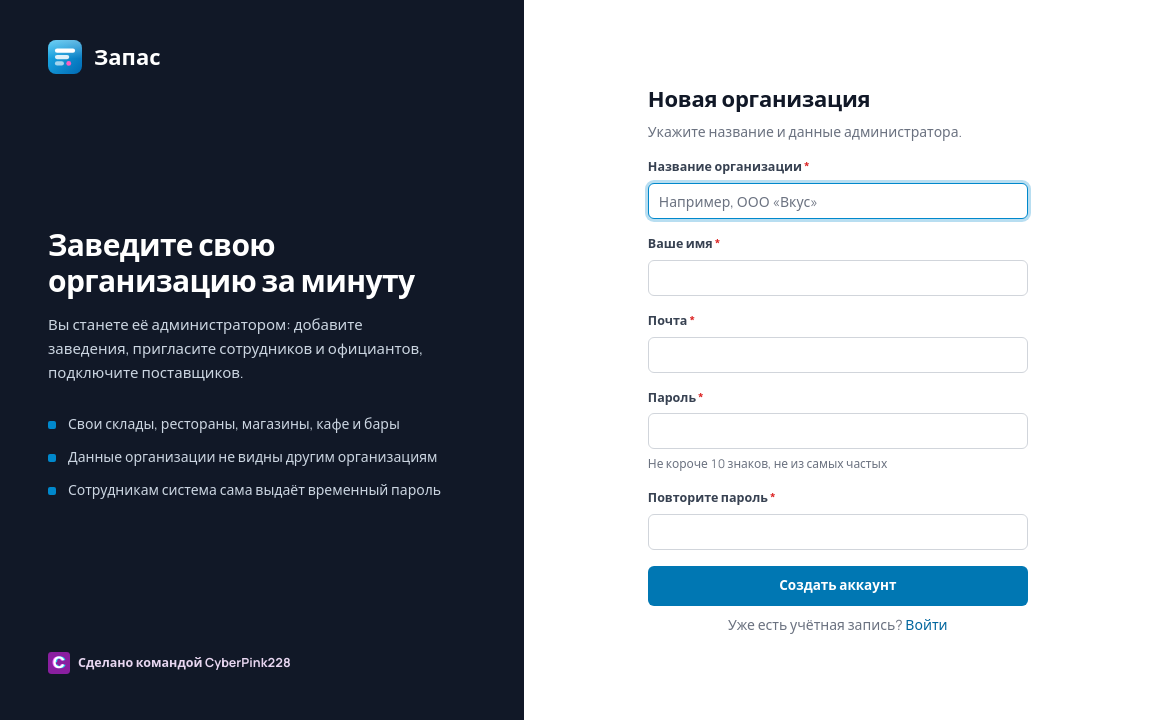
подтверждение почты › после регистрации вместо входа открывается ввод кода, адрес назван
Type "ООО «Вкус»" into the field labelled "Название организации*" at (838, 201), box [648,183,1028,219]
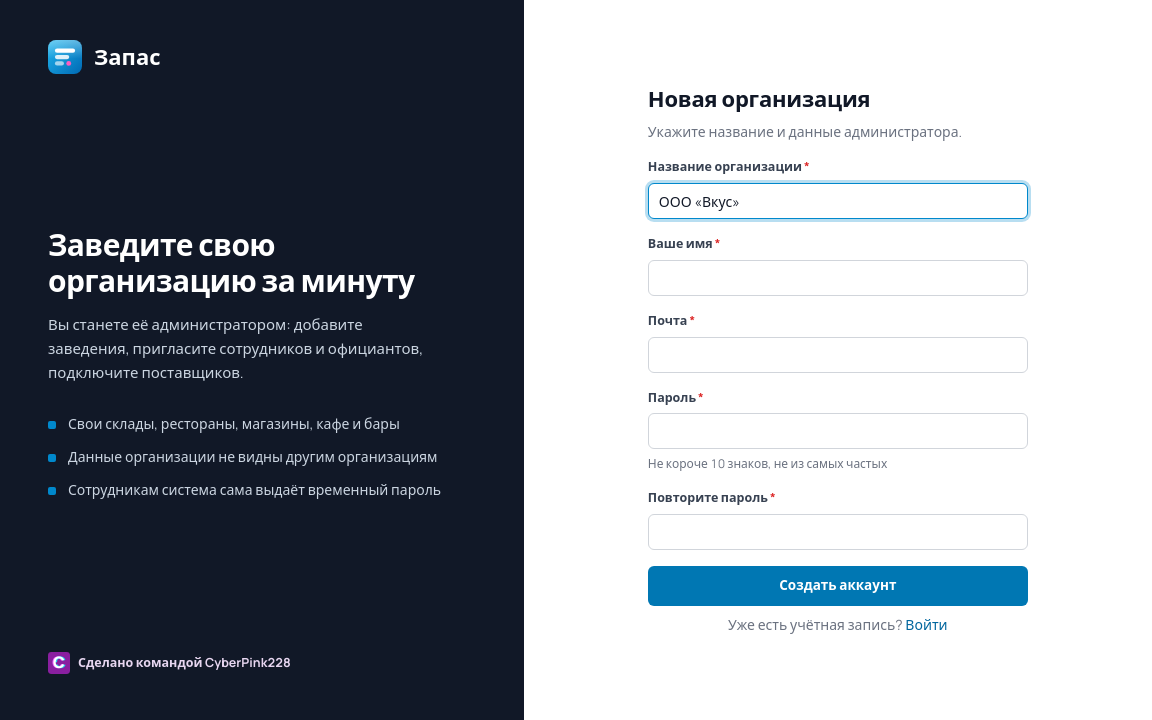
Type "Орлова Наталья" into the field labelled "Ваше имя*" at (838, 278), box [648,260,1028,296]
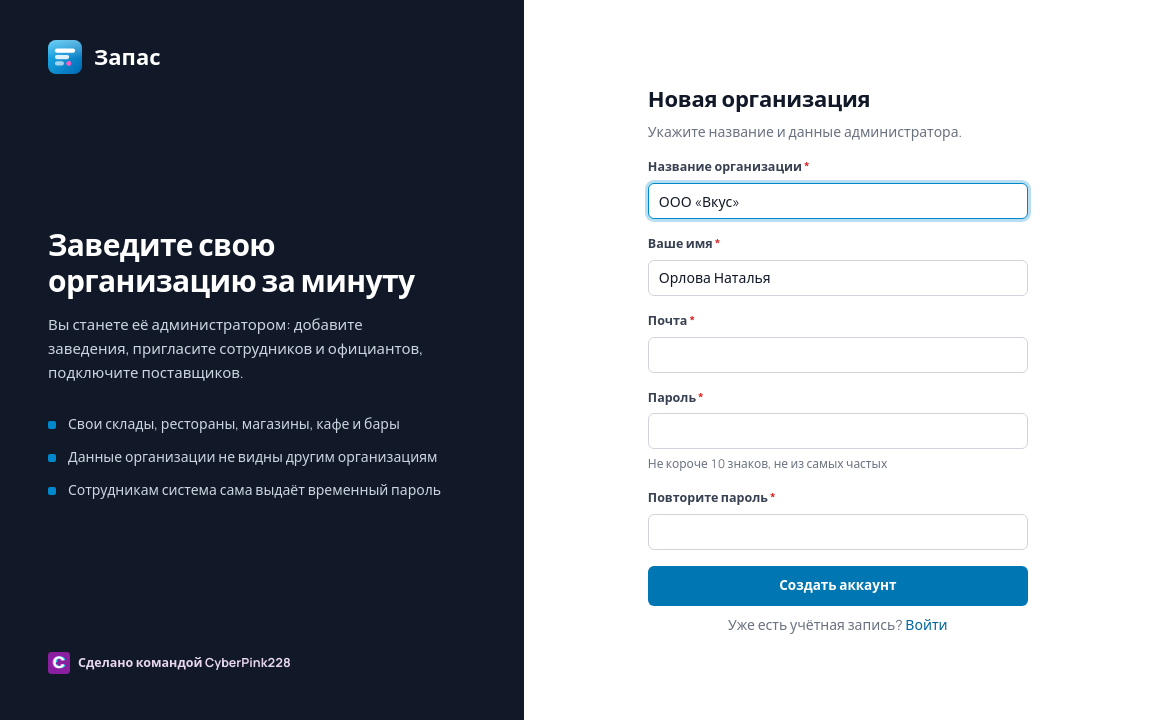
Type "owner@vkus.example" into the field labelled "Почта*" at (838, 355), box [648,337,1028,373]
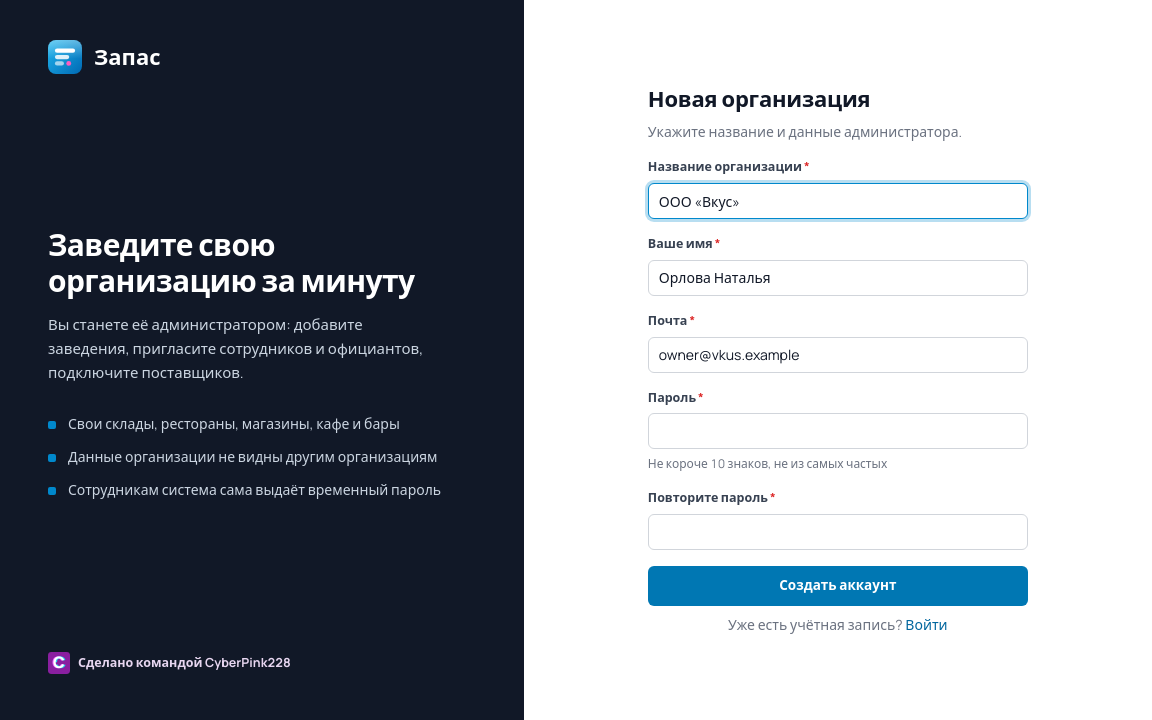
Type "Хорошая-длинная-фраза-91" into the password field labelled "Пароль*" at (838, 431), box [648,413,1028,449]
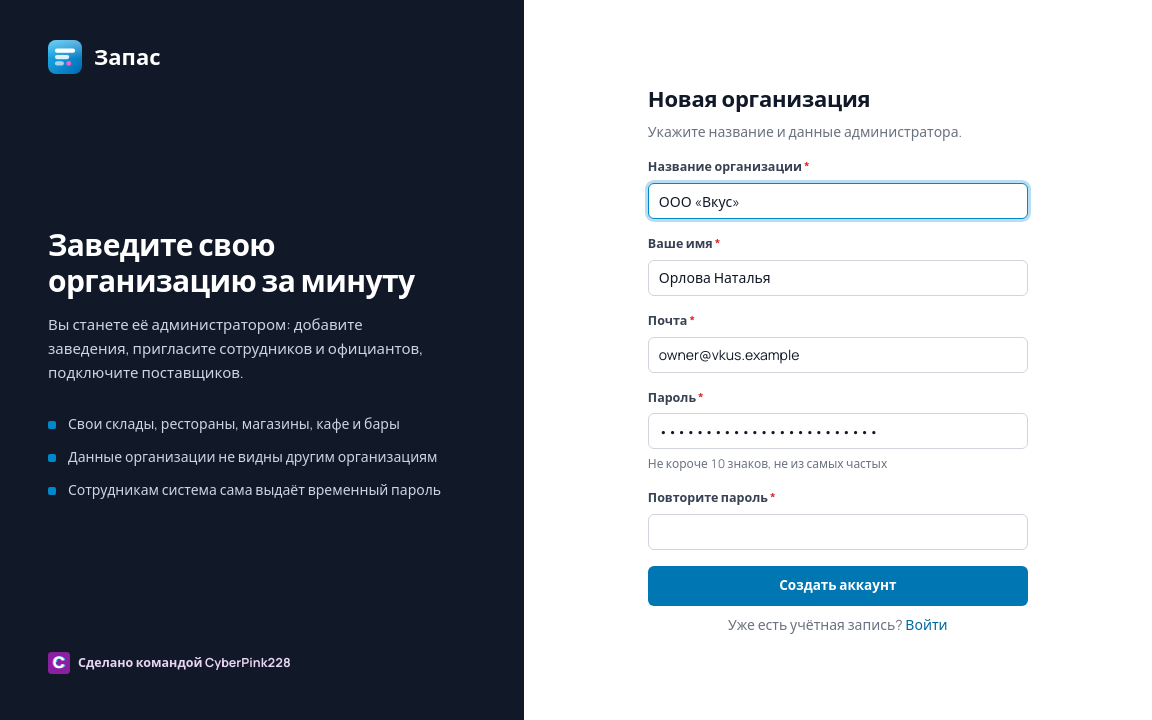
Type "Хорошая-длинная-фраза-91" into the password field labelled "Повторите пароль*" at (838, 532), box [648,514,1028,550]
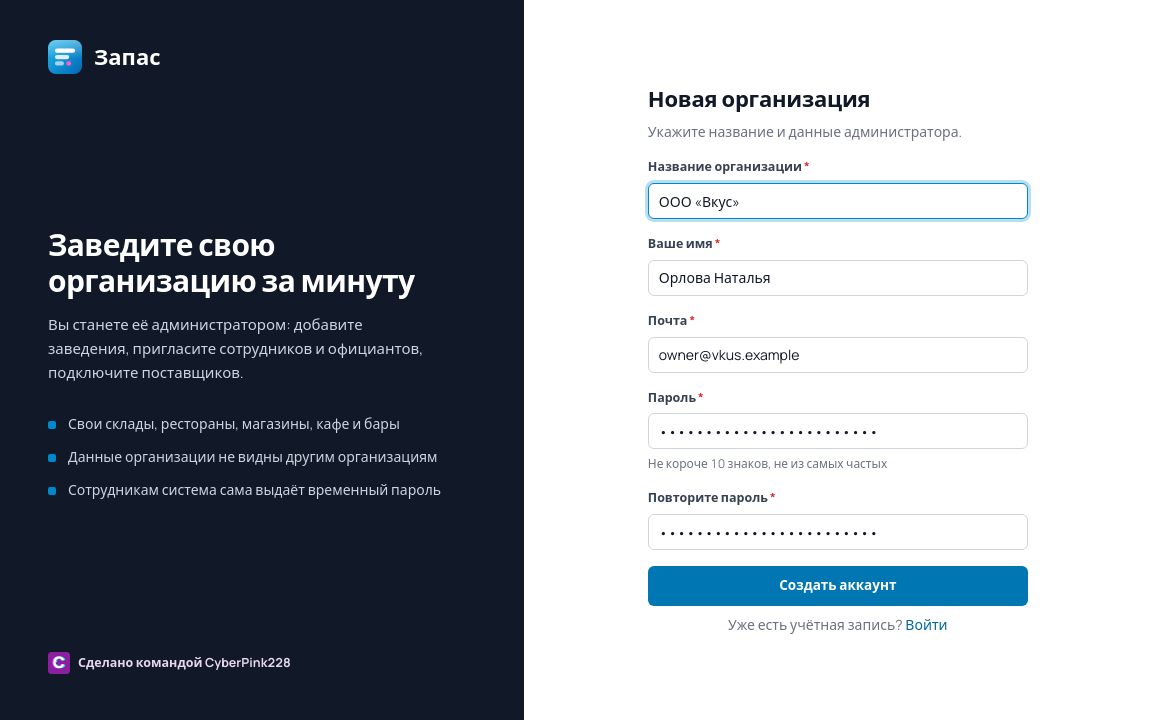
Click the button "Создать аккаунт" at (838, 586), box [648,566,1028,606]
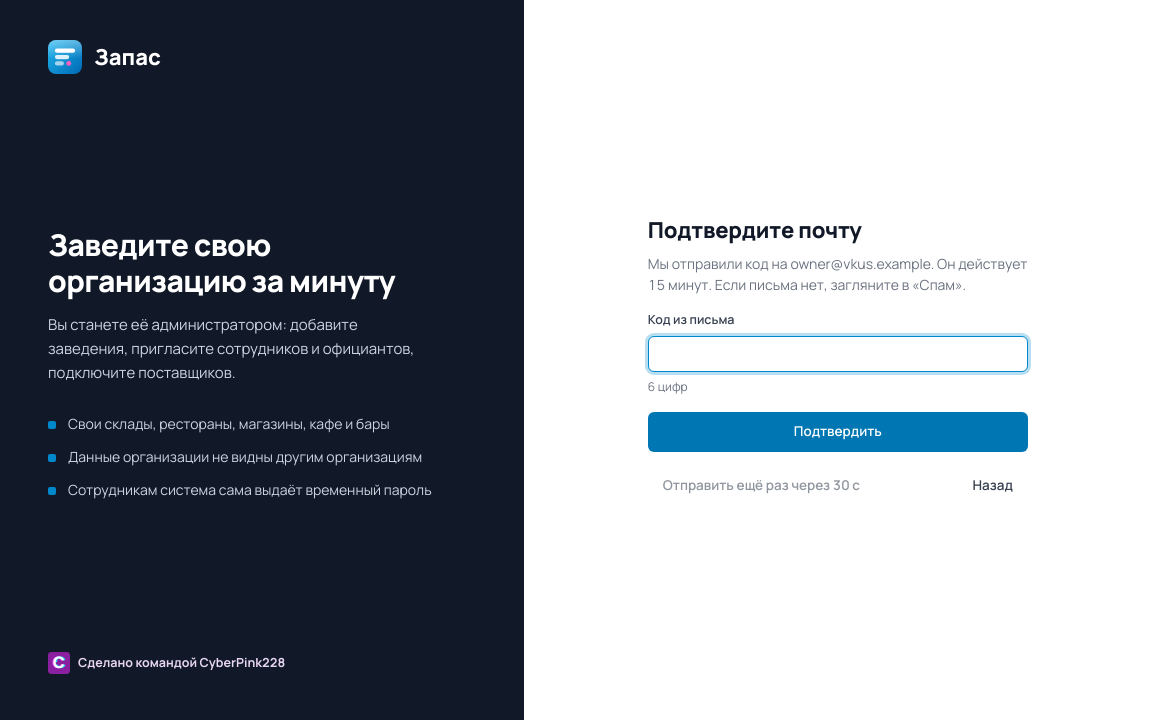
Expected: the heading "Подтвердите почту" is shown, [648,215,862,245]
Expected: the text "15 минут" is shown, [648,253,1028,295]
